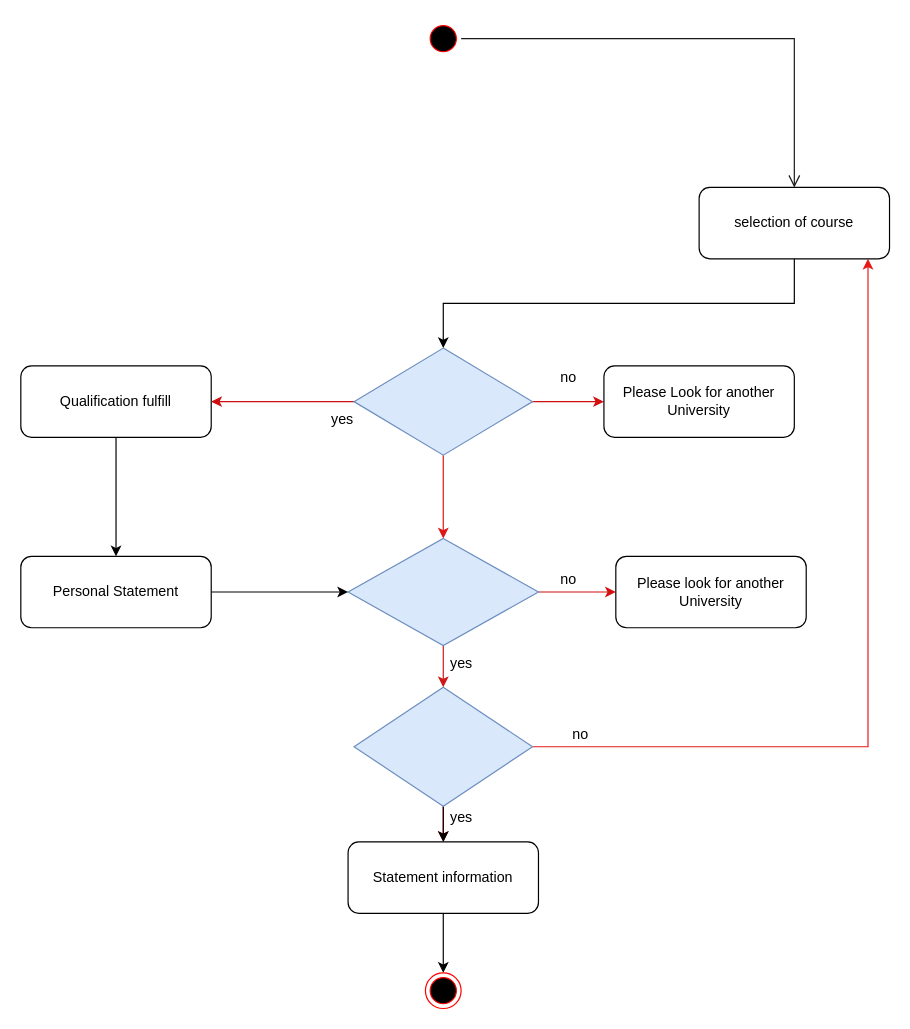
Some shapes in this 910 by 1029 pixel diagram are drawn without their labels. Here are the shapes that lost their labels. From the top down, the centre of each, then its label:
pixel 443 401: Academic Qualification
pixel 442 591: Application Approved
pixel 443 746: Course Fee
